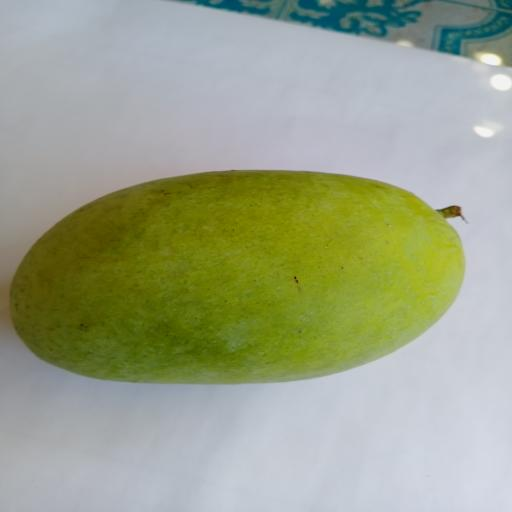mango-unripe: (1, 168, 487, 393)
